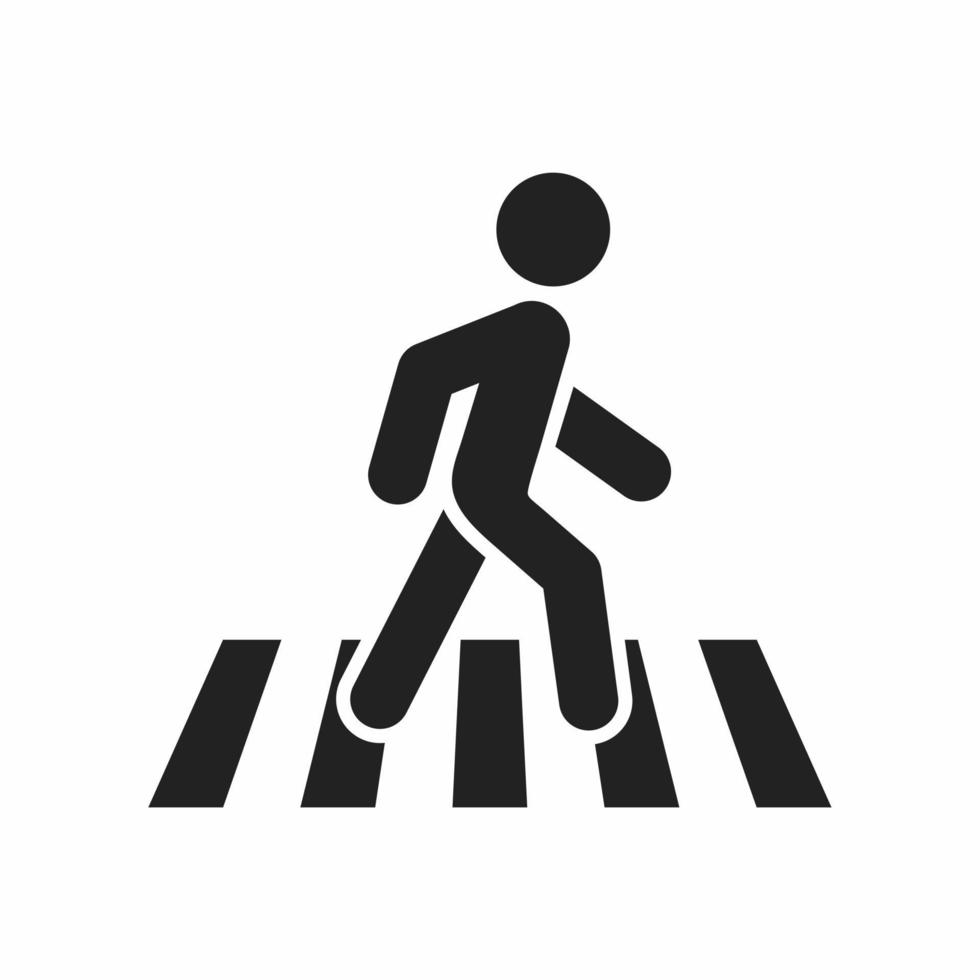Crosswalk: (109, 164, 882, 845)
